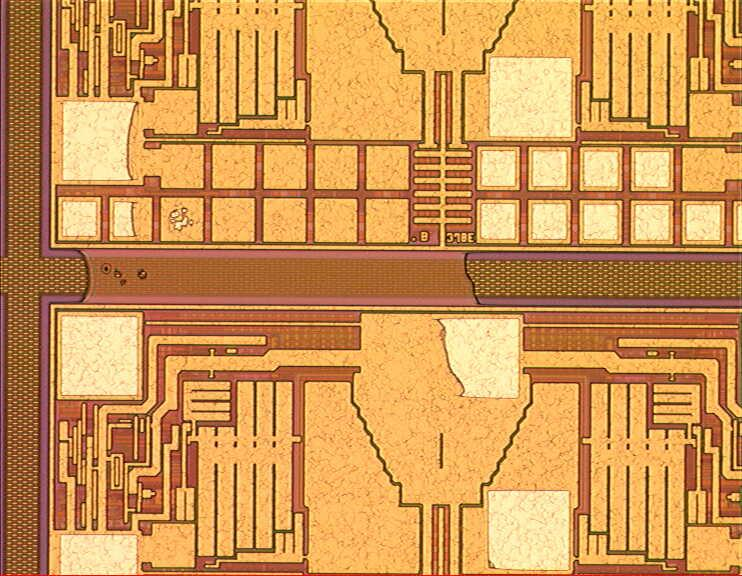COATING BAD: (77, 1, 490, 399)
